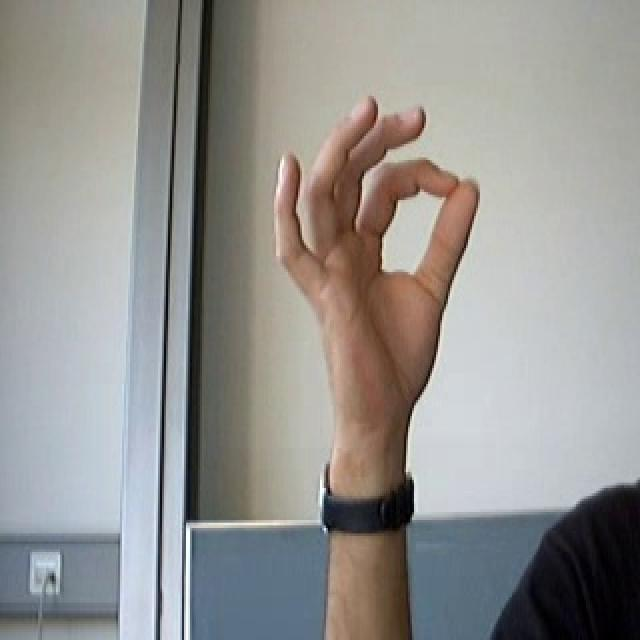F: (219, 87, 506, 459)
